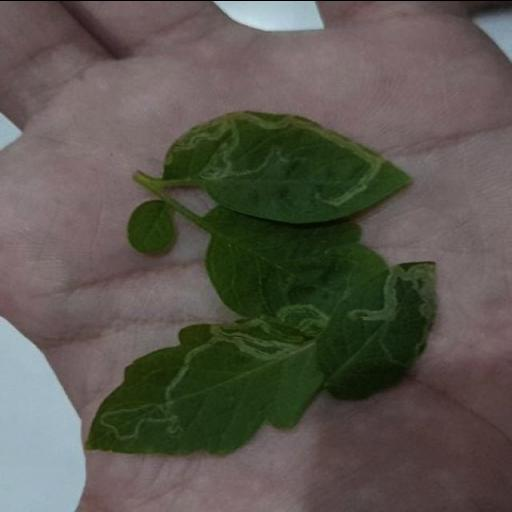disease_tomato: (82, 314, 322, 456), (164, 111, 412, 221), (316, 258, 438, 402)
